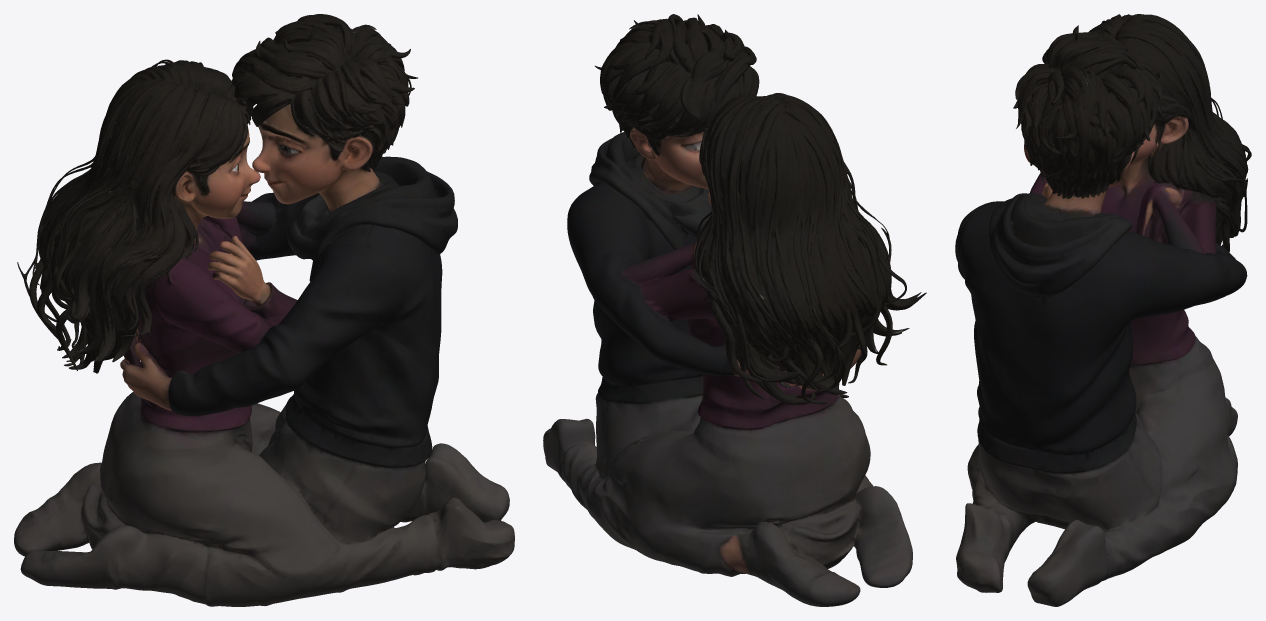
3 renders of one model, left to right at view 1: azimuth 30°, elevation 25°; view 2: azimuth 150°, elevation 25°; view 3: azimuth 270°, elevation 25°, orthographic. The views are drawn at different scales.
Visible parts, largest first — view 1: mesh_node; view 2: mesh_node; view 3: mesh_node.
Boxes of the visible parts, left/top/right/bottom form: mesh_node: left=14, top=14, right=514, bottom=606; mesh_node: left=543, top=14, right=926, bottom=606; mesh_node: left=955, top=14, right=1251, bottom=606.
Bounding box in the file's own units: 1.7 × 2 × 1.07.
Materials: 1 (1 with a texture image).
